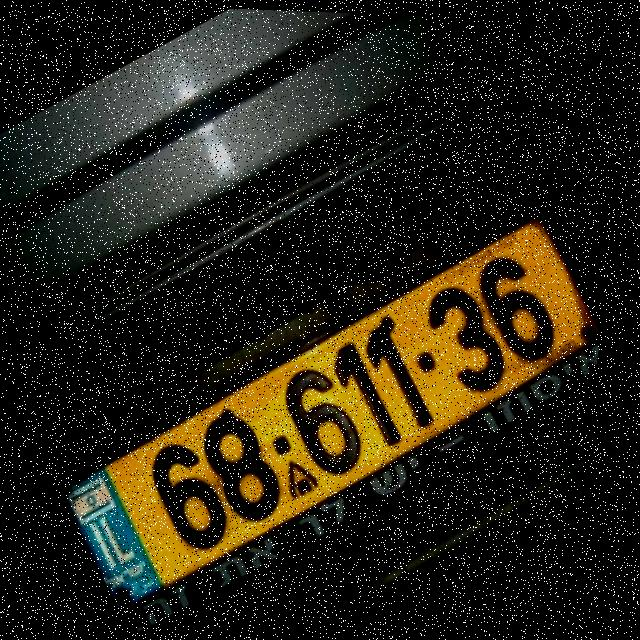license_plate: (112, 213, 611, 582)
